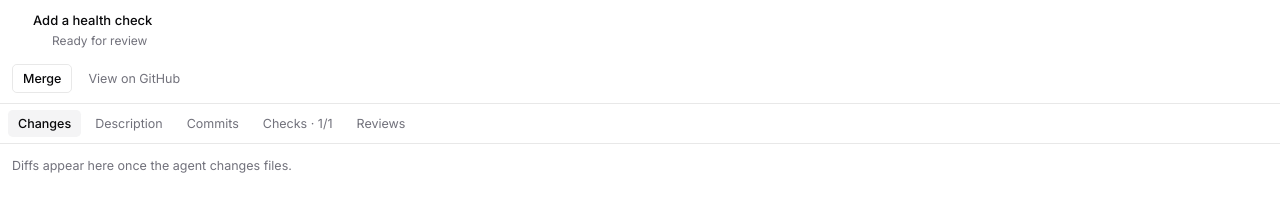
PullRequestPanel › renders description, commits, checks, and reviews
The width and height of the screenshot is (1280, 213).
Click the tab "Description": click(129, 124) top-left (85, 110), bottom-right (173, 137)
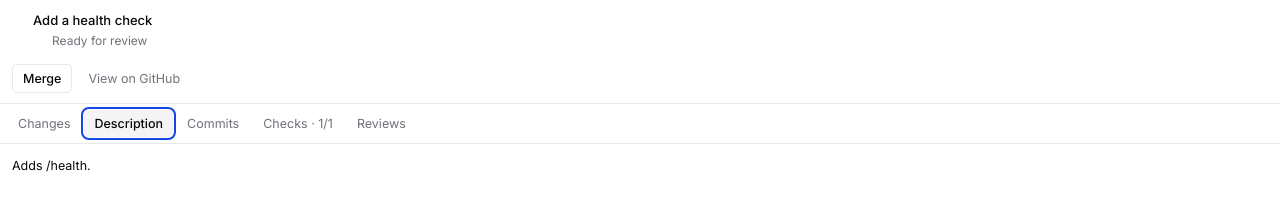
Expected: the text "Adds /health." is shown, top-left (12, 158), bottom-right (91, 173)
Click the tab "Commits": click(213, 124) top-left (177, 110), bottom-right (249, 137)
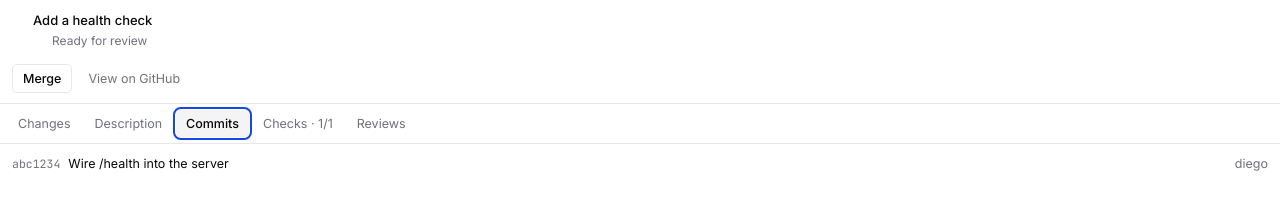
Expected: the text "Wire /health into the server" is shown, top-left (68, 156), bottom-right (229, 171)
Expected: the text "abc1234" is shown, top-left (12, 155), bottom-right (60, 173)
Click the tab "Checks · 1/1": click(298, 124) top-left (253, 110), bottom-right (343, 137)
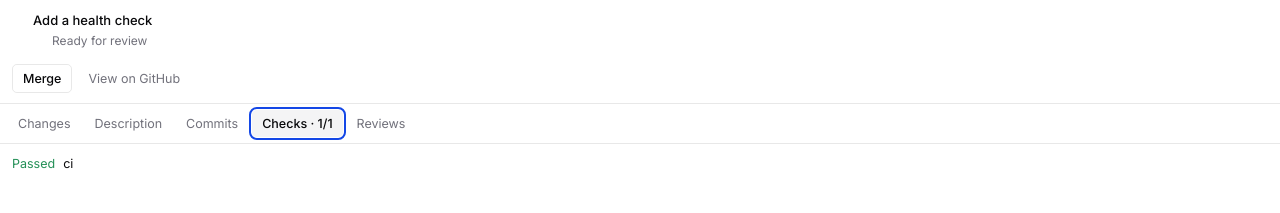
Expected: the text "ci" is shown, top-left (63, 154), bottom-right (73, 174)
Expected: the text "Passed" is shown, top-left (12, 154), bottom-right (55, 174)
Click the tab "Reviews": click(381, 124) top-left (347, 110), bottom-right (416, 137)
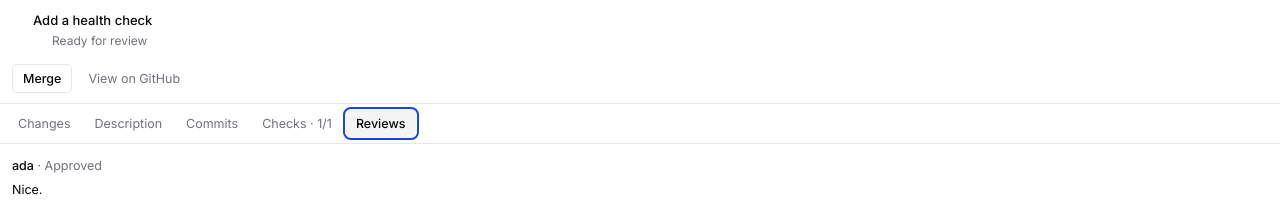
Expected: the text "ada" is shown, top-left (12, 158), bottom-right (34, 173)
Expected: the text "· Approved" is shown, top-left (34, 158), bottom-right (102, 173)
Expected: the text "Nice." is shown, top-left (12, 182), bottom-right (42, 197)
